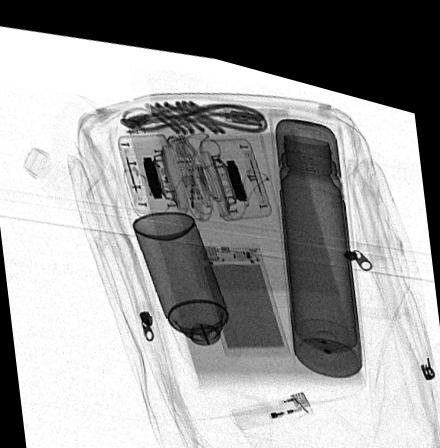Lighter: (229, 374, 313, 417)
Powerbank: (194, 230, 291, 343)
Sprayer: (132, 200, 241, 362)
